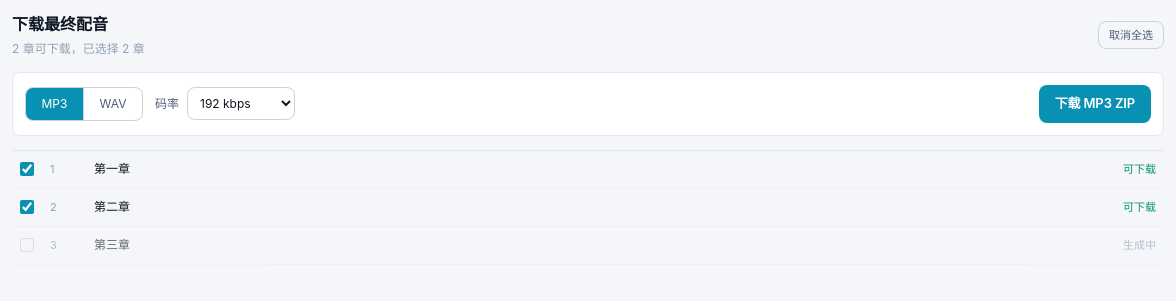
Test case: FinalAudioDownloadPanel › submits the remaining selected chapters with the chosen fixed MP3 bitrate
The image size is (1176, 301).
Expected: the checkbox named "选择《第一章》" is checked, top-left (20, 162), bottom-right (34, 176)
Click the checkbox named "选择《第二章》" at [27, 207], box top-left (20, 200), bottom-right (34, 214)
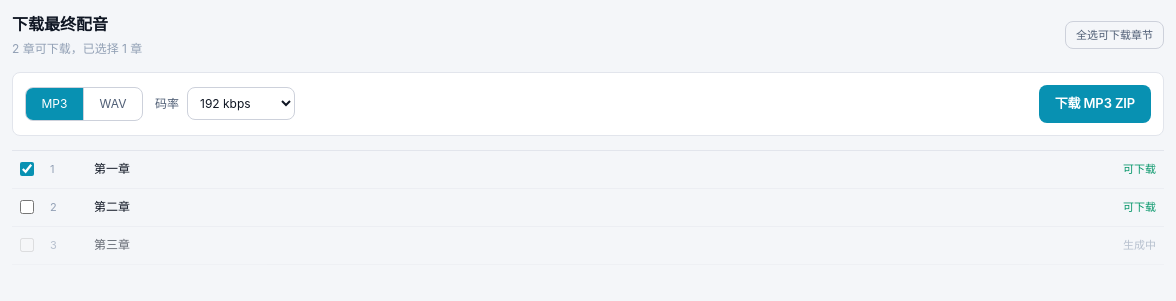
Select "256 kbps" in the dropdown named "MP3 码率" at [241, 104], box top-left (187, 87), bottom-right (295, 120)
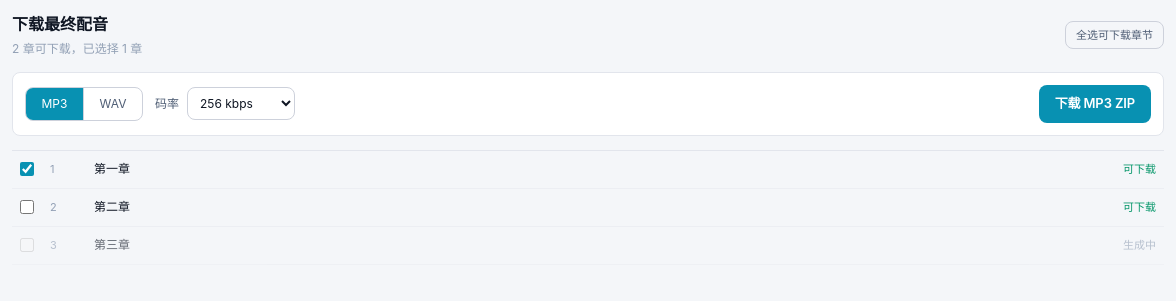
Click the button "下载 MP3 ZIP" at [1095, 104], box top-left (1039, 85), bottom-right (1151, 122)
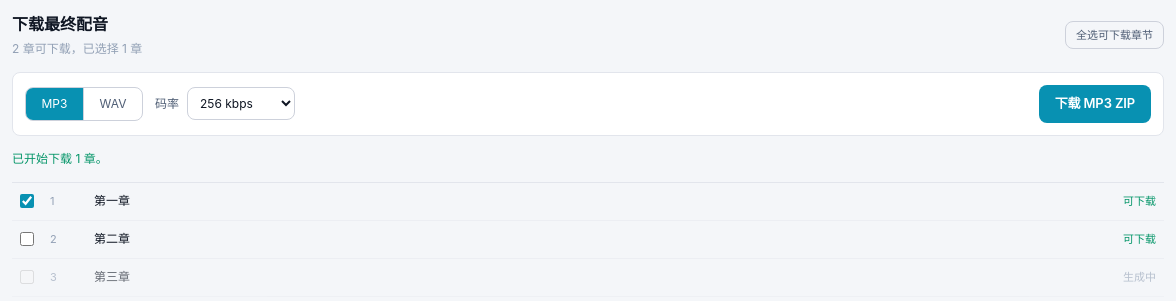
Now the text "已开始下载 1 章。" is shown, box top-left (12, 150), bottom-right (108, 166)
